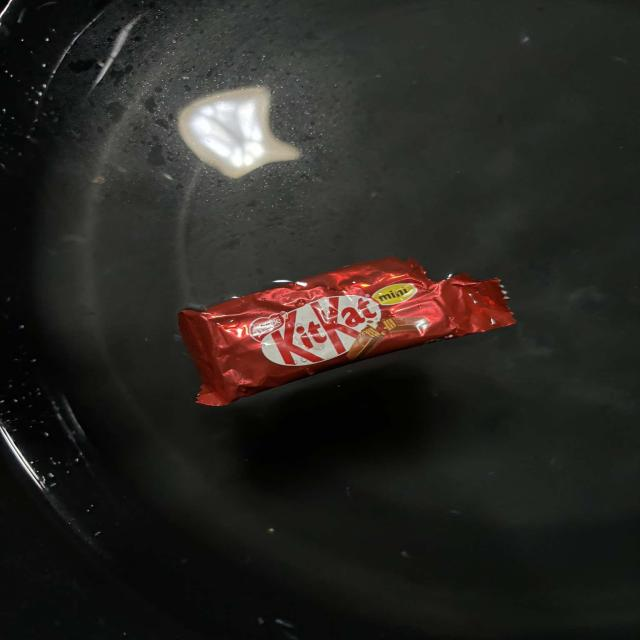Plastic Wrapper: (152, 246, 540, 422)
